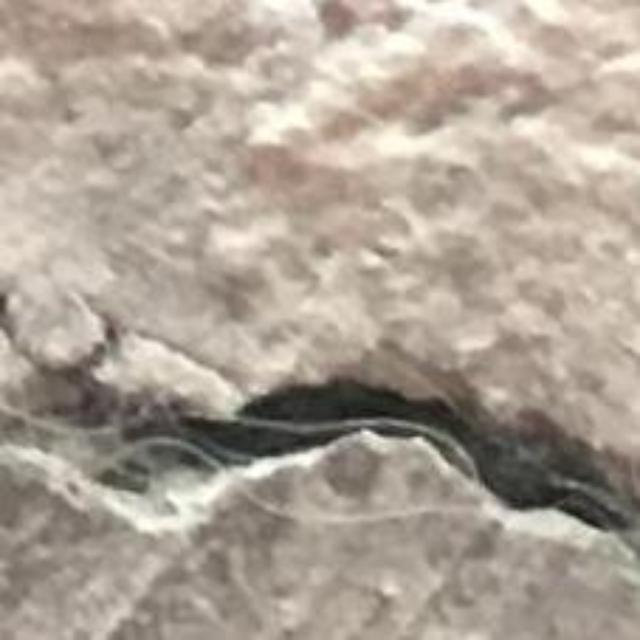crack: (0, 361, 639, 552)
